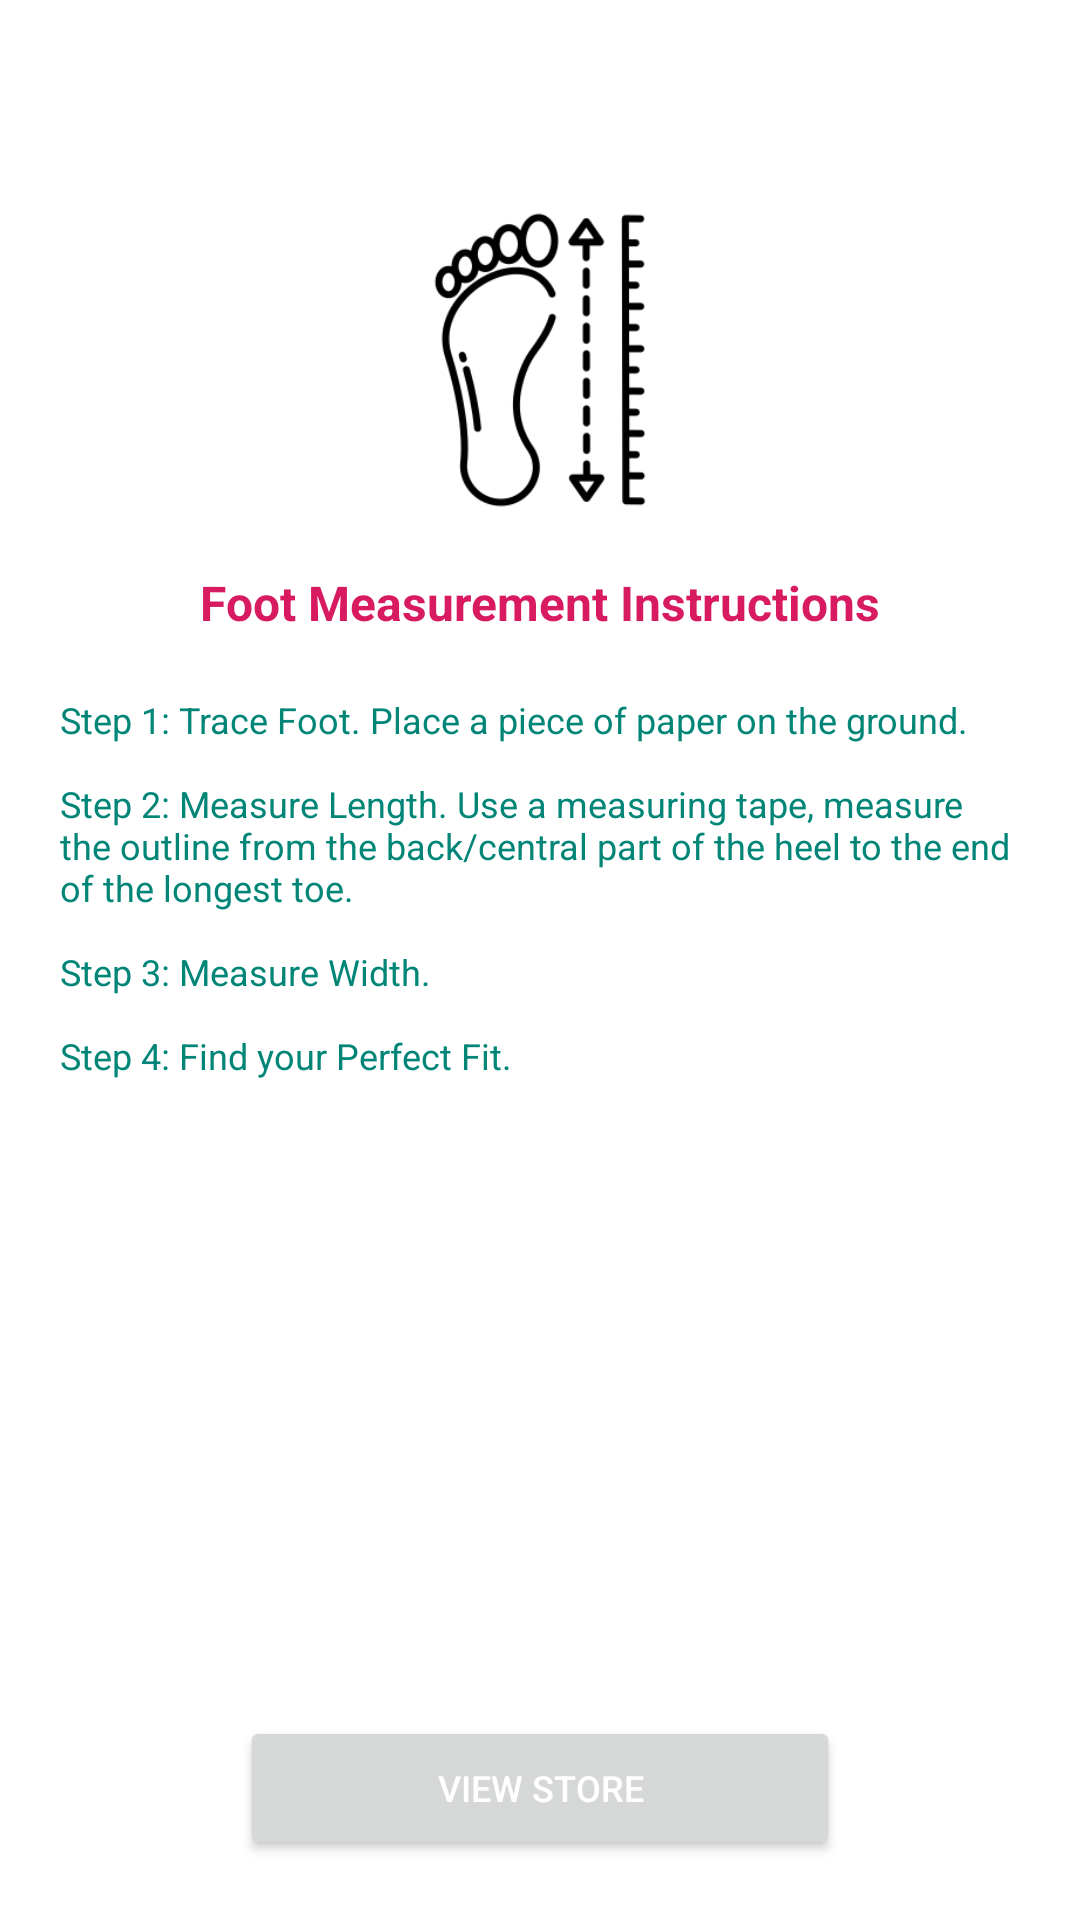

Icon bounding boxes for this 1080 x 1920 phone screenshot, format (x1, y1, x2, y2):
foot length: (434, 213, 646, 507)
